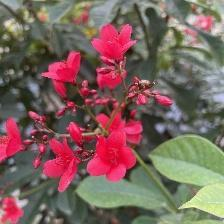jatropha: (88, 129, 138, 184), (93, 22, 136, 62)
